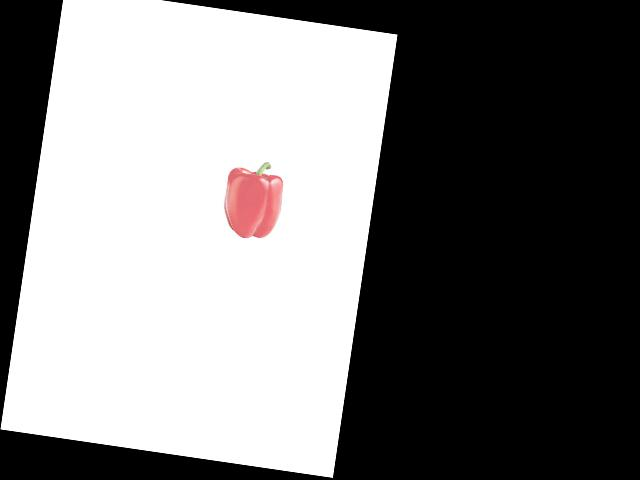bell_pepper: (215, 156, 290, 245)
